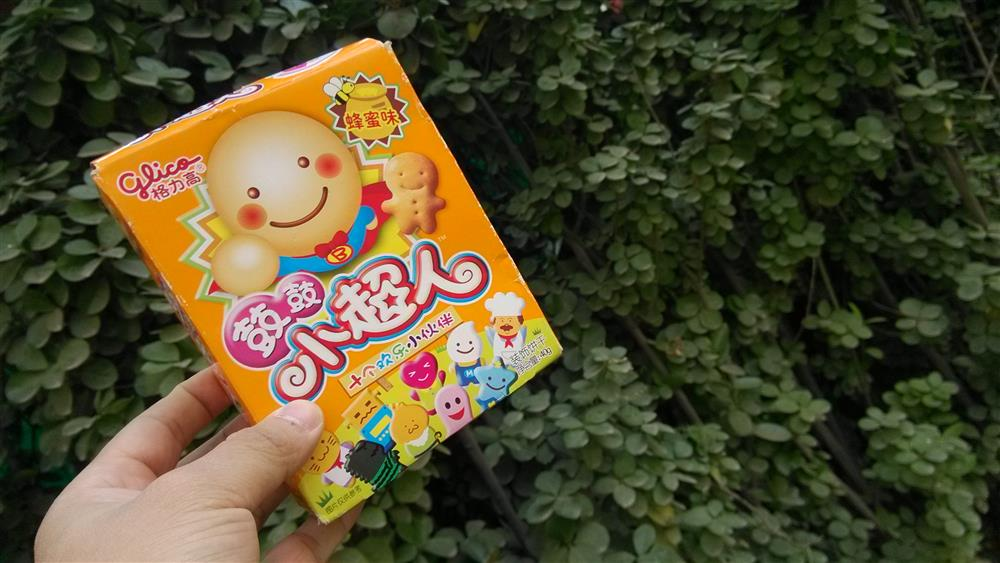glice_superman: (93, 34, 563, 518)
